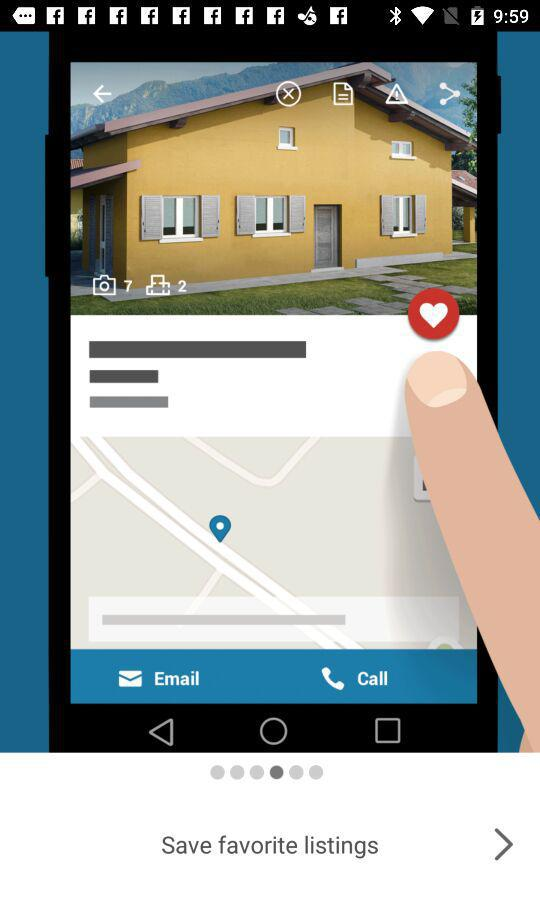Icon: (493, 827, 514, 861)
Image: (1, 33, 539, 753)
PageIndicator: (209, 764, 325, 781)
Text: (162, 834, 379, 860)
UpperTaskBar: (1, 1, 540, 33)
